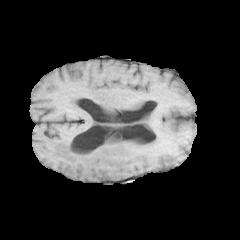glioma: (50, 115, 191, 173)
